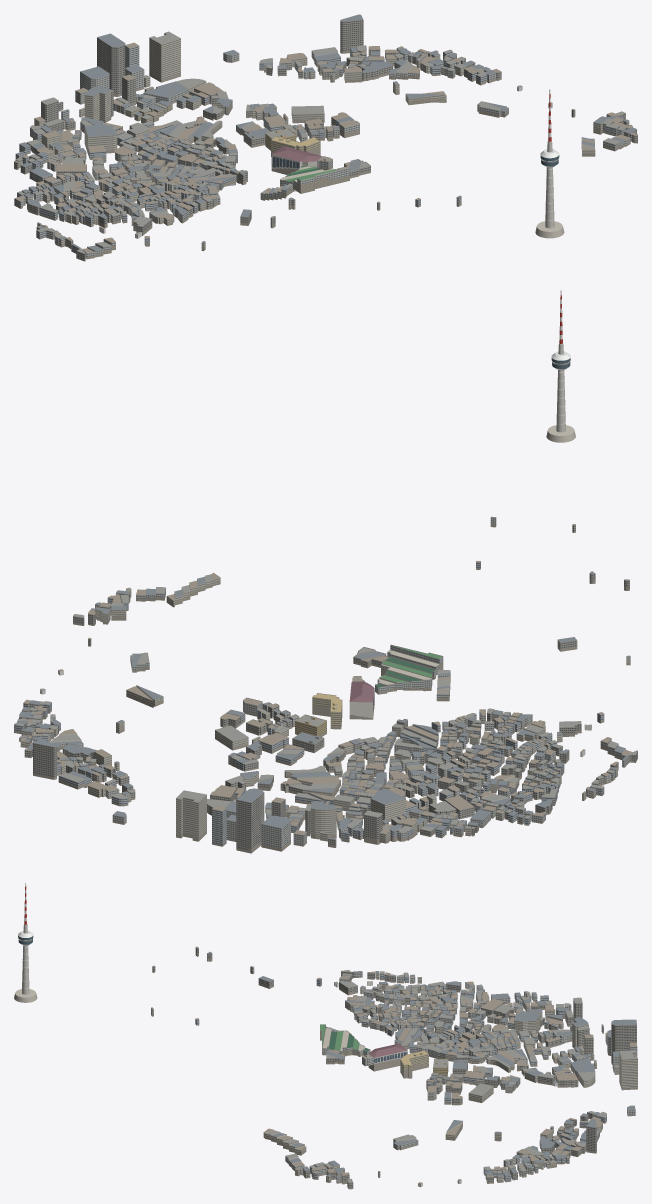
3 renders of one model, top to bottom at view 1: azimuth 30°, elevation 25°; view 2: azimuth 150°, elevation 25°; view 3: azimuth 270°, elevation 25°, orthographic. The views are drawn at different scales.
Parts seen in each view (by area): view 1: ctx-roof-1, ctx-other-3, ctx-roof-0, ctx-roof-2, ctx-other-2, ctx-other-0, ctx-other-1, ctx-plinth, ctx-retaining, ntower-concrete, ctx-roof-gym, ctx-gym-wall (+4 smaller); view 2: ctx-other-3, ctx-roof-1, ctx-other-2, ctx-roof-0, ctx-other-0, ctx-roof-2, ctx-other-1, ctx-plinth, ctx-retaining; view 3: ctx-roof-1, ctx-other-3, ctx-roof-0, ctx-roof-2, ctx-other-2, ctx-other-0, ctx-plinth, ctx-other-1, ctx-retaining.
Boxes of the visible parts, x1=… form: ctx-roof-1: x1=16, y1=14, x2=636, y2=250; ctx-other-3: x1=14, y1=19, x2=636, y2=259; ctx-roof-0: x1=16, y1=31, x2=634, y2=253; ctx-roof-2: x1=14, y1=42, x2=637, y2=253; ctx-other-2: x1=15, y1=33, x2=637, y2=248; ctx-other-0: x1=14, y1=53, x2=634, y2=257; ctx-other-1: x1=17, y1=48, x2=619, y2=243; ctx-plinth: x1=14, y1=50, x2=637, y2=261; ctx-retaining: x1=30, y1=55, x2=630, y2=259; ntower-concrete: x1=545, y1=141, x2=554, y2=228; ctx-roof-gym: x1=272, y1=146, x2=322, y2=161; ctx-gym-wall: x1=271, y1=154, x2=317, y2=169; ctx-other-3: x1=17, y1=525, x2=637, y2=850; ctx-roof-1: x1=16, y1=516, x2=630, y2=839; ctx-other-2: x1=19, y1=575, x2=630, y2=840; ctx-roof-0: x1=14, y1=524, x2=637, y2=833; ctx-other-0: x1=25, y1=517, x2=628, y2=848; ctx-roof-2: x1=21, y1=560, x2=632, y2=834; ctx-other-1: x1=14, y1=561, x2=615, y2=839; ctx-plinth: x1=14, y1=523, x2=637, y2=853; ctx-retaining: x1=57, y1=581, x2=622, y2=836; ctx-roof-1: x1=151, y1=951, x2=636, y2=1177; ctx-other-3: x1=152, y1=947, x2=636, y2=1187; ctx-roof-0: x1=152, y1=946, x2=637, y2=1182; ctx-roof-2: x1=195, y1=971, x2=637, y2=1183; ctx-other-2: x1=250, y1=966, x2=637, y2=1181; ctx-other-0: x1=151, y1=972, x2=635, y2=1181; ctx-plinth: x1=151, y1=952, x2=637, y2=1189; ctx-other-1: x1=195, y1=972, x2=606, y2=1180; ctx-retaining: x1=263, y1=977, x2=599, y2=1170.
Size of the model in its own units: 970 by 436 by 1174.
Materials: 28 (12 with a texture image).
